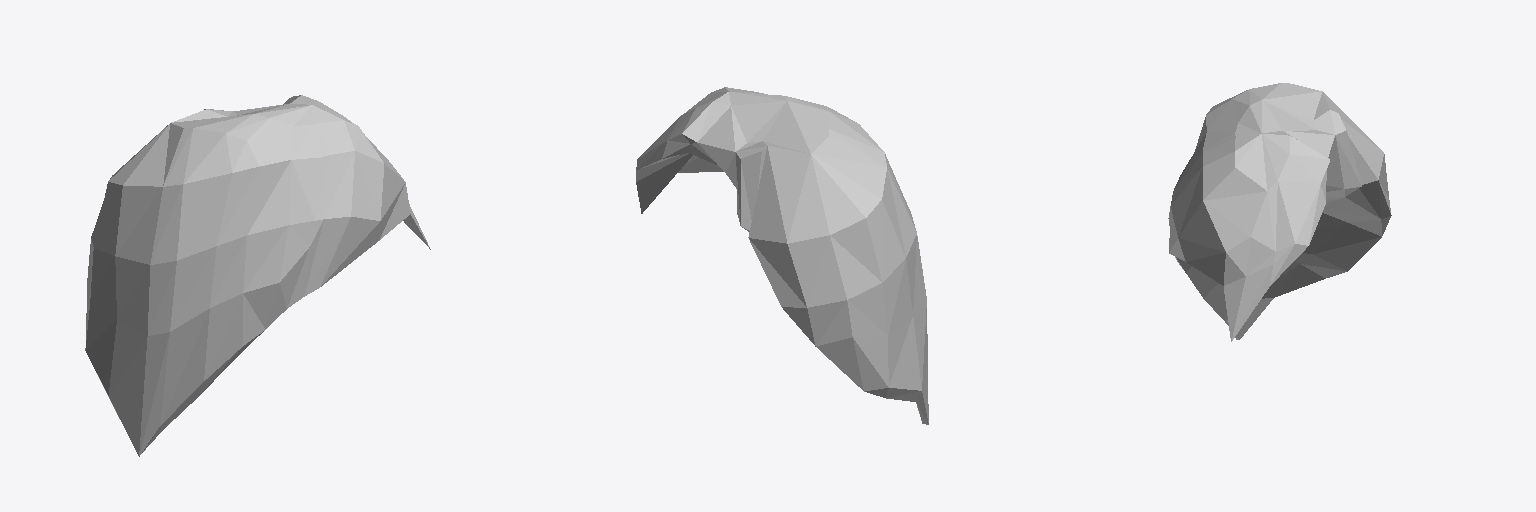
The model's file is foie_GF_avec_pointd2.obj.
The picture shows the model from 3 angles: view 1: azimuth 30°, elevation 25°; view 2: azimuth 150°, elevation 25°; view 3: azimuth 270°, elevation 25°; orthographic projection.
Visible parts, largest first — view 1: 1_Visual; view 2: 1_Visual; view 3: 1_Visual.
Boxes of the visible parts, <box> form: 1_Visual: <box>85,95,430,456</box>; 1_Visual: <box>636,87,928,424</box>; 1_Visual: <box>1168,83,1391,341</box>.
Bounding box in the file's own units: 6.74 × 6.46 × 4.32.